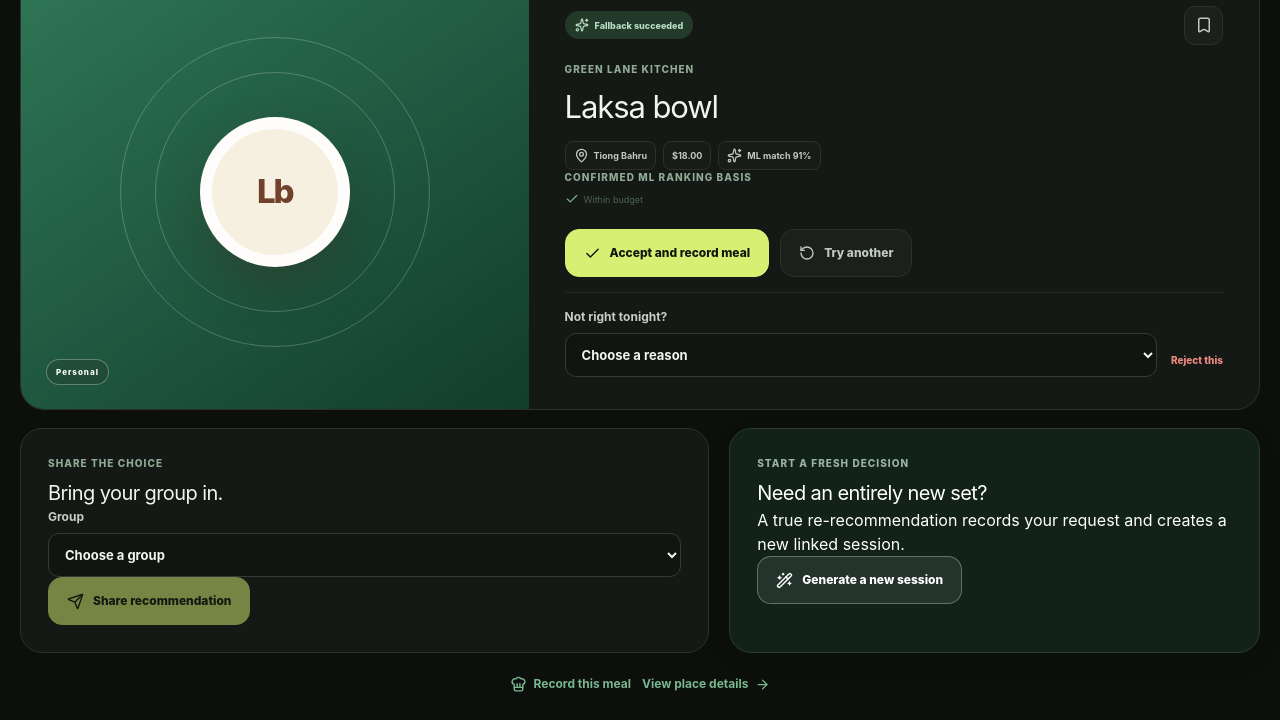
Test: recommendation decision loop › confirms the Reject this action, preserves the session, and advances locally
(page scrolled)
Click the button "Reject this" at (1197, 360), box [1171,343,1223,377]
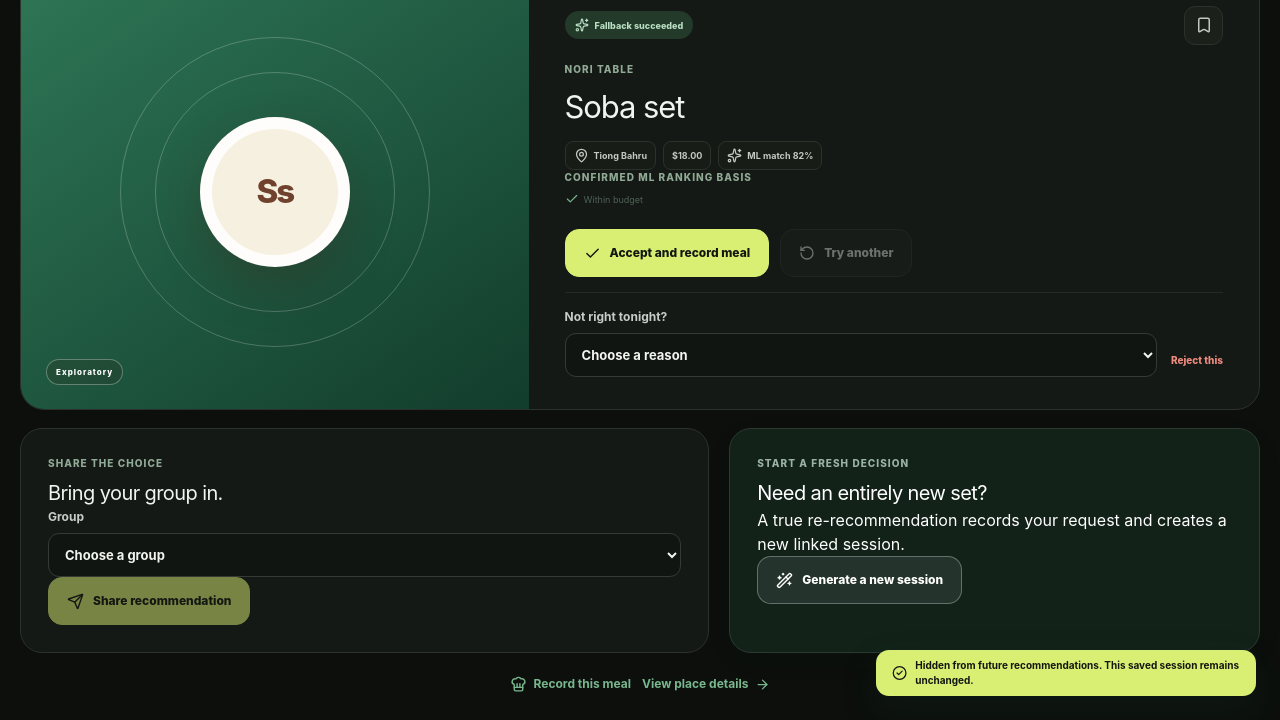
Expected: the text "Hidden from future recommendations. This saved session remains unchanged." is shown, [876,650,1256,696]
